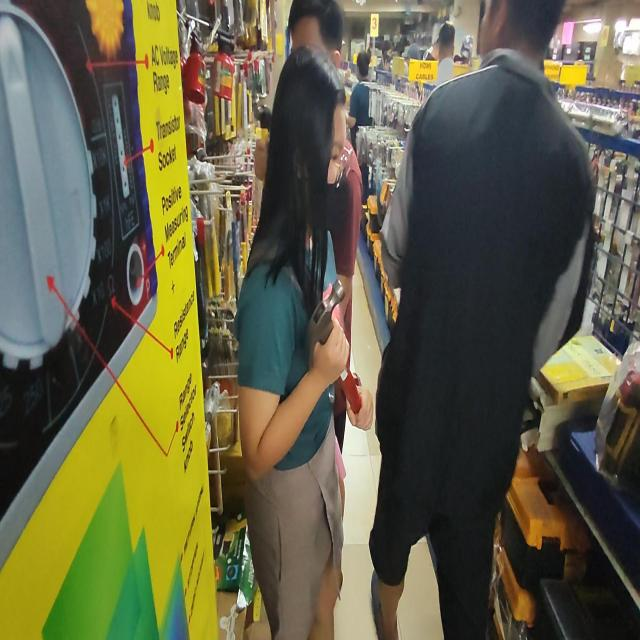hammer: (305, 278, 362, 412)
